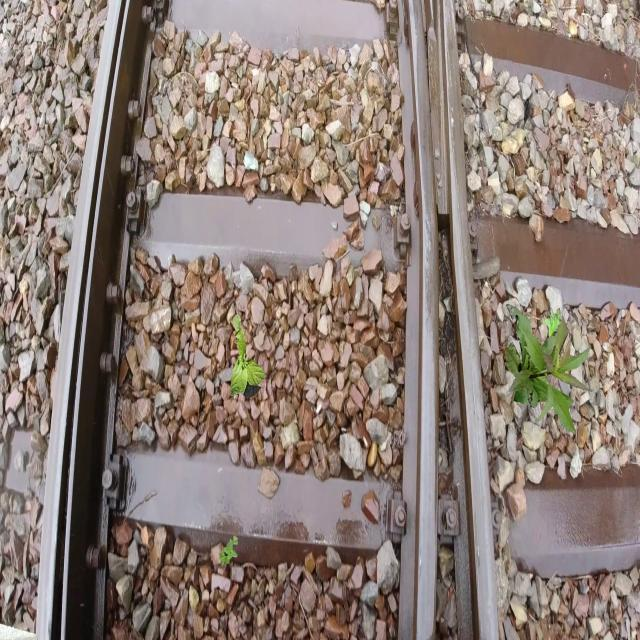Plant: (504, 304, 592, 434), (230, 314, 266, 398), (541, 308, 562, 341), (219, 535, 238, 568)
